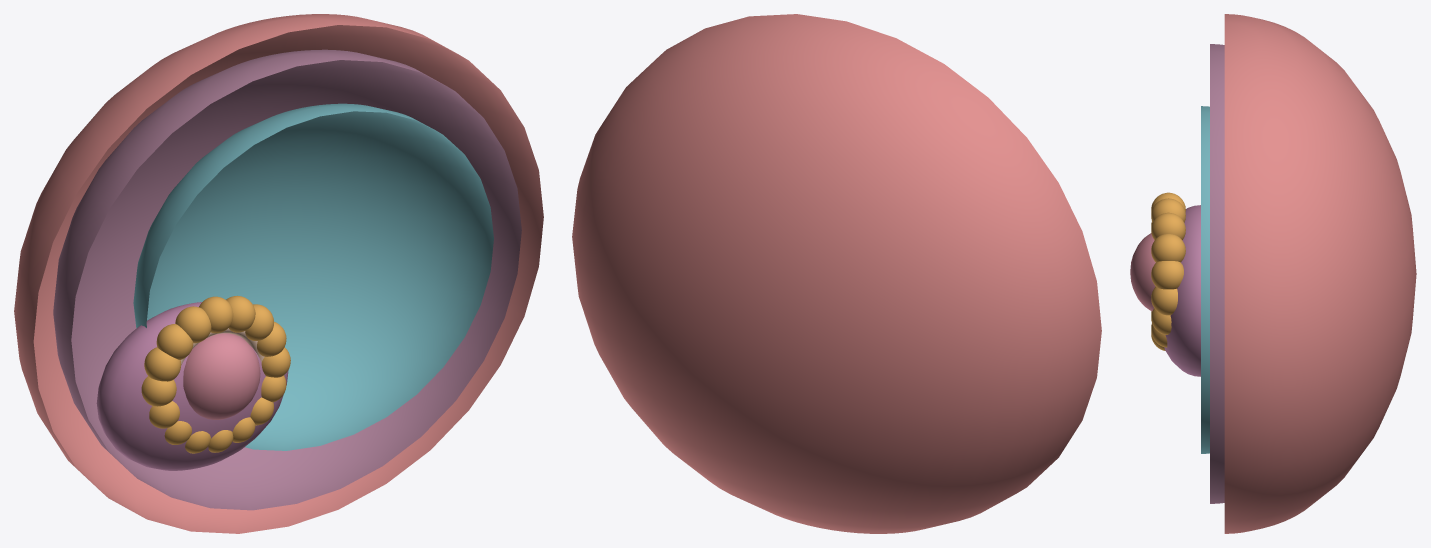
File: ovarian-follicle.glb
3 renders of one model, left to right at view 1: azimuth 30°, elevation 25°; view 2: azimuth 150°, elevation 25°; view 3: azimuth 270°, elevation 25°, orthographic. The views are drawn at different scales.
Visible parts, largest first — view 1: antrum, granulosa_layer, theca, corona_radiata, cumulus_oophorus, oocyte; view 2: theca; view 3: theca, granulosa_layer, corona_radiata, cumulus_oophorus, antrum, oocyte.
Part boxes in pixels (<box>): antrum: <box>133,103,493,450</box>; granulosa_layer: <box>53,49,521,510</box>; theca: <box>14,14,543,533</box>; corona_radiata: <box>141,295,290,453</box>; cumulus_oophorus: <box>96,302,288,470</box>; oocyte: <box>183,333,260,419</box>; theca: <box>572,14,1101,533</box>; theca: <box>1224,14,1416,533</box>; granulosa_layer: <box>1210,44,1224,503</box>; corona_radiata: <box>1151,192,1185,350</box>; cumulus_oophorus: <box>1164,205,1200,376</box>; antrum: <box>1201,106,1209,453</box>; oocyte: <box>1130,233,1155,311</box>.
Size of the model in its own units: 1.88 by 1.74 by 0.9691.
